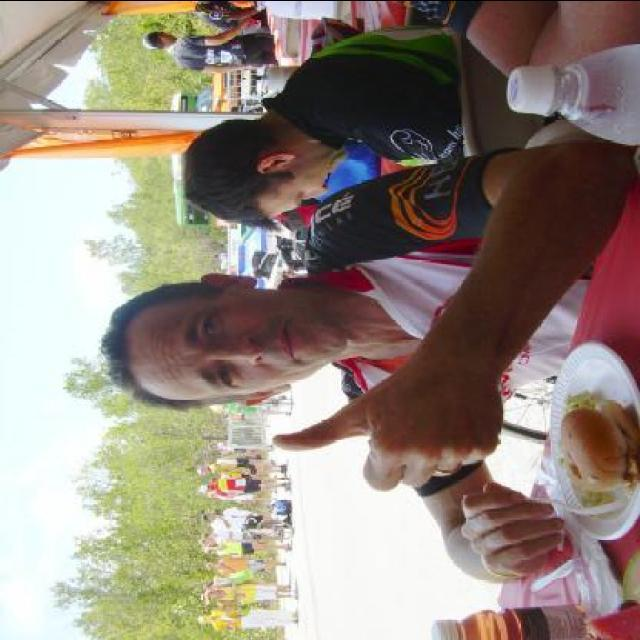Hamburger: (558, 398, 640, 494)
